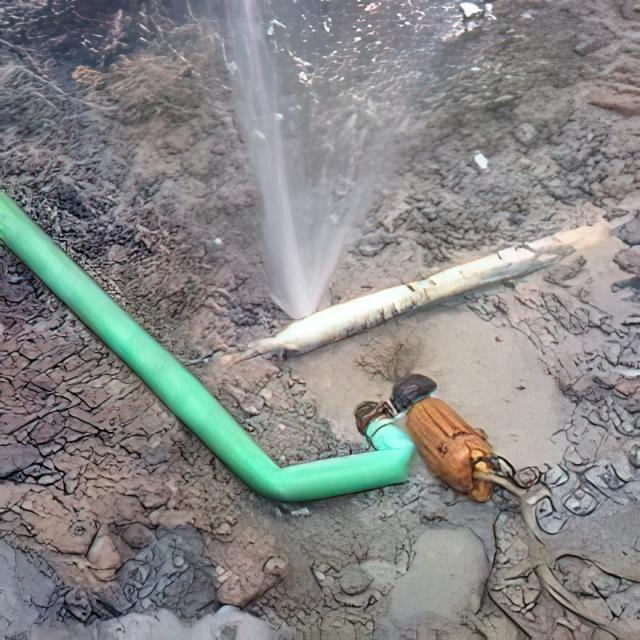leak: (225, 0, 421, 318)
